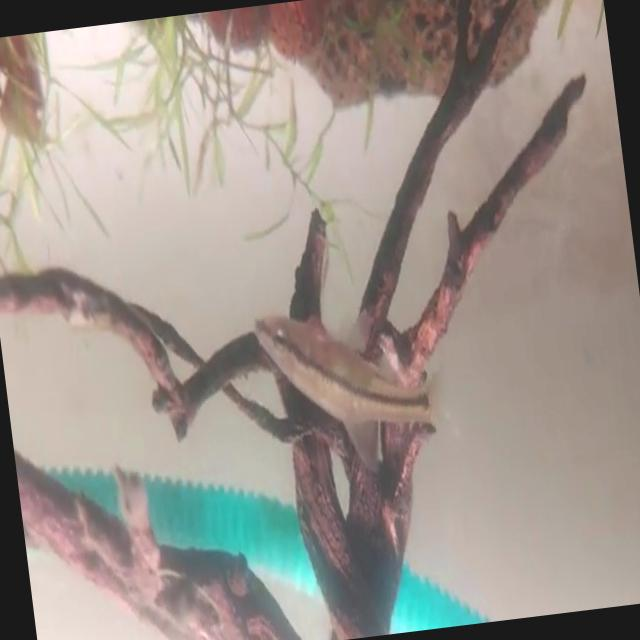Cakil Baligi: (249, 288, 452, 500)
